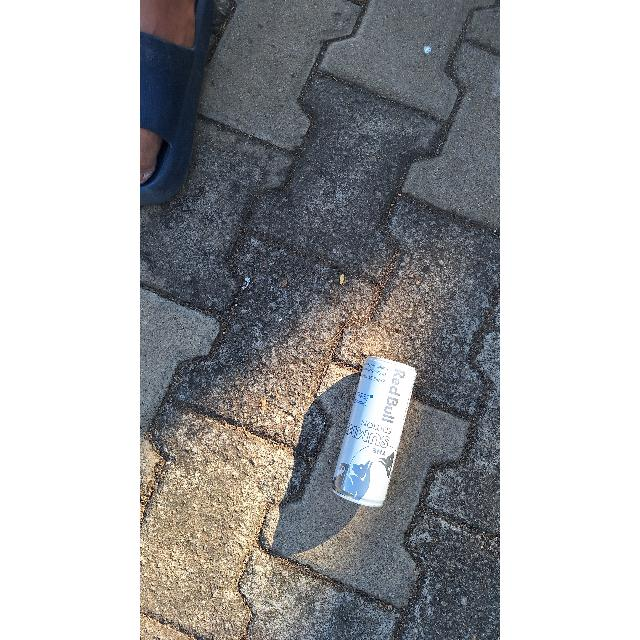Redbull Summer Edition: (328, 352, 419, 518)
